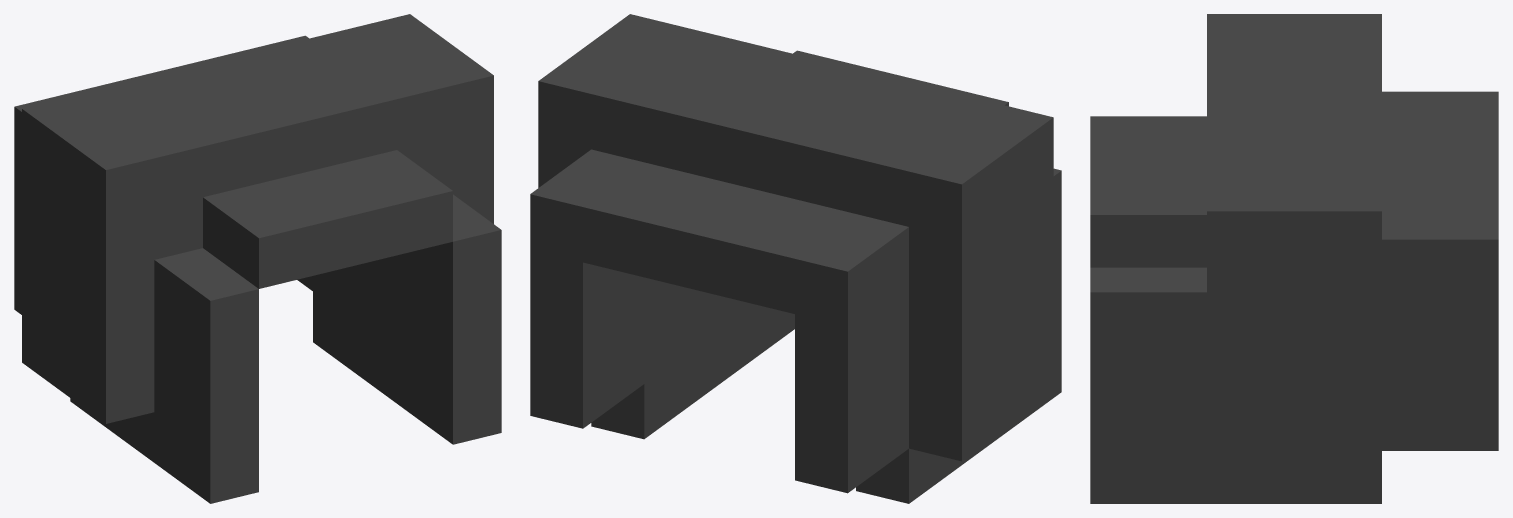
File: Extra-15-CamoJet_Thruster_R.obj
3 renders of one model, left to right at view 1: azimuth 30°, elevation 25°; view 2: azimuth 150°, elevation 25°; view 3: azimuth 270°, elevation 25°, orthographic. The views are drawn at different scales.
Parts seen in each view (by area): view 1: CamoJet_Thruster_R; view 2: CamoJet_Thruster_R; view 3: CamoJet_Thruster_R.
Part boxes in pixels (x1,y1,x2,y2): CamoJet_Thruster_R: [14, 14, 501, 503]; CamoJet_Thruster_R: [530, 14, 1061, 503]; CamoJet_Thruster_R: [1090, 14, 1498, 503].
Size of the model in its own units: 0.8 by 0.6 by 0.7.
Materials: 1 (1 with a texture image).
